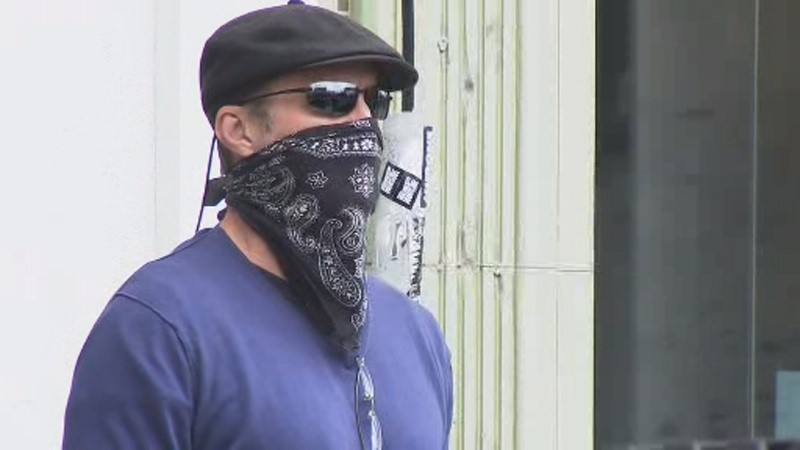face_with_mask: (202, 8, 396, 264)
